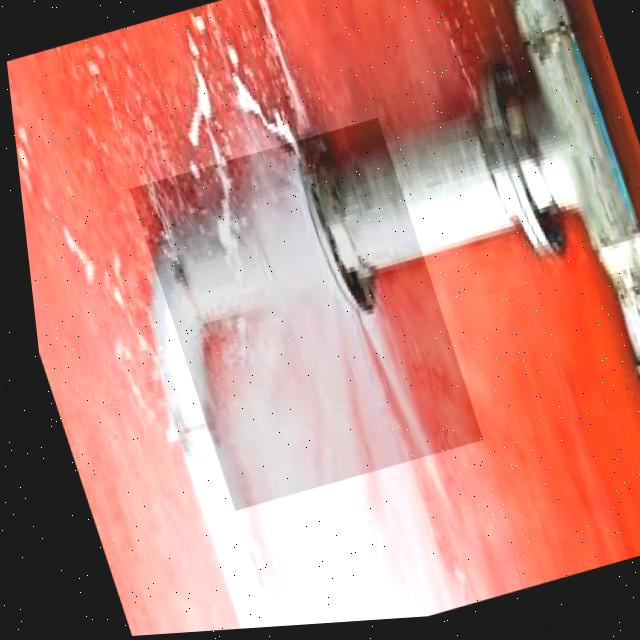corrosion: (140, 121, 494, 510)
